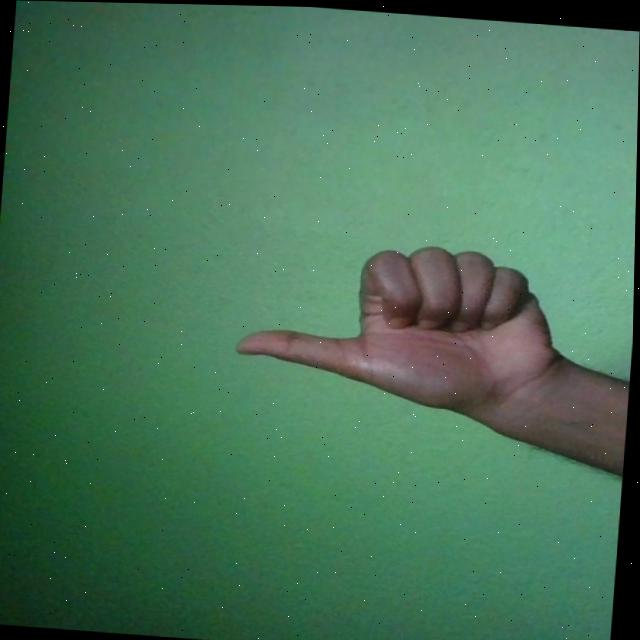Good Job: (232, 229, 573, 416)
